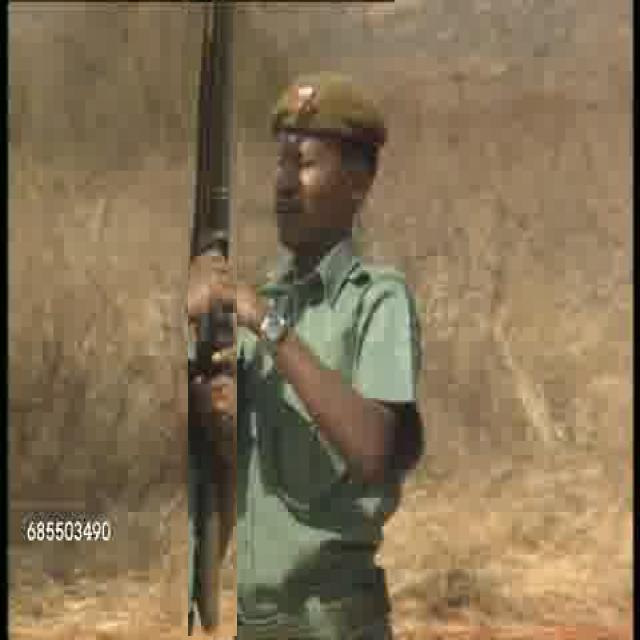poacher: (243, 53, 389, 569)
weapon: (188, 2, 237, 636)
